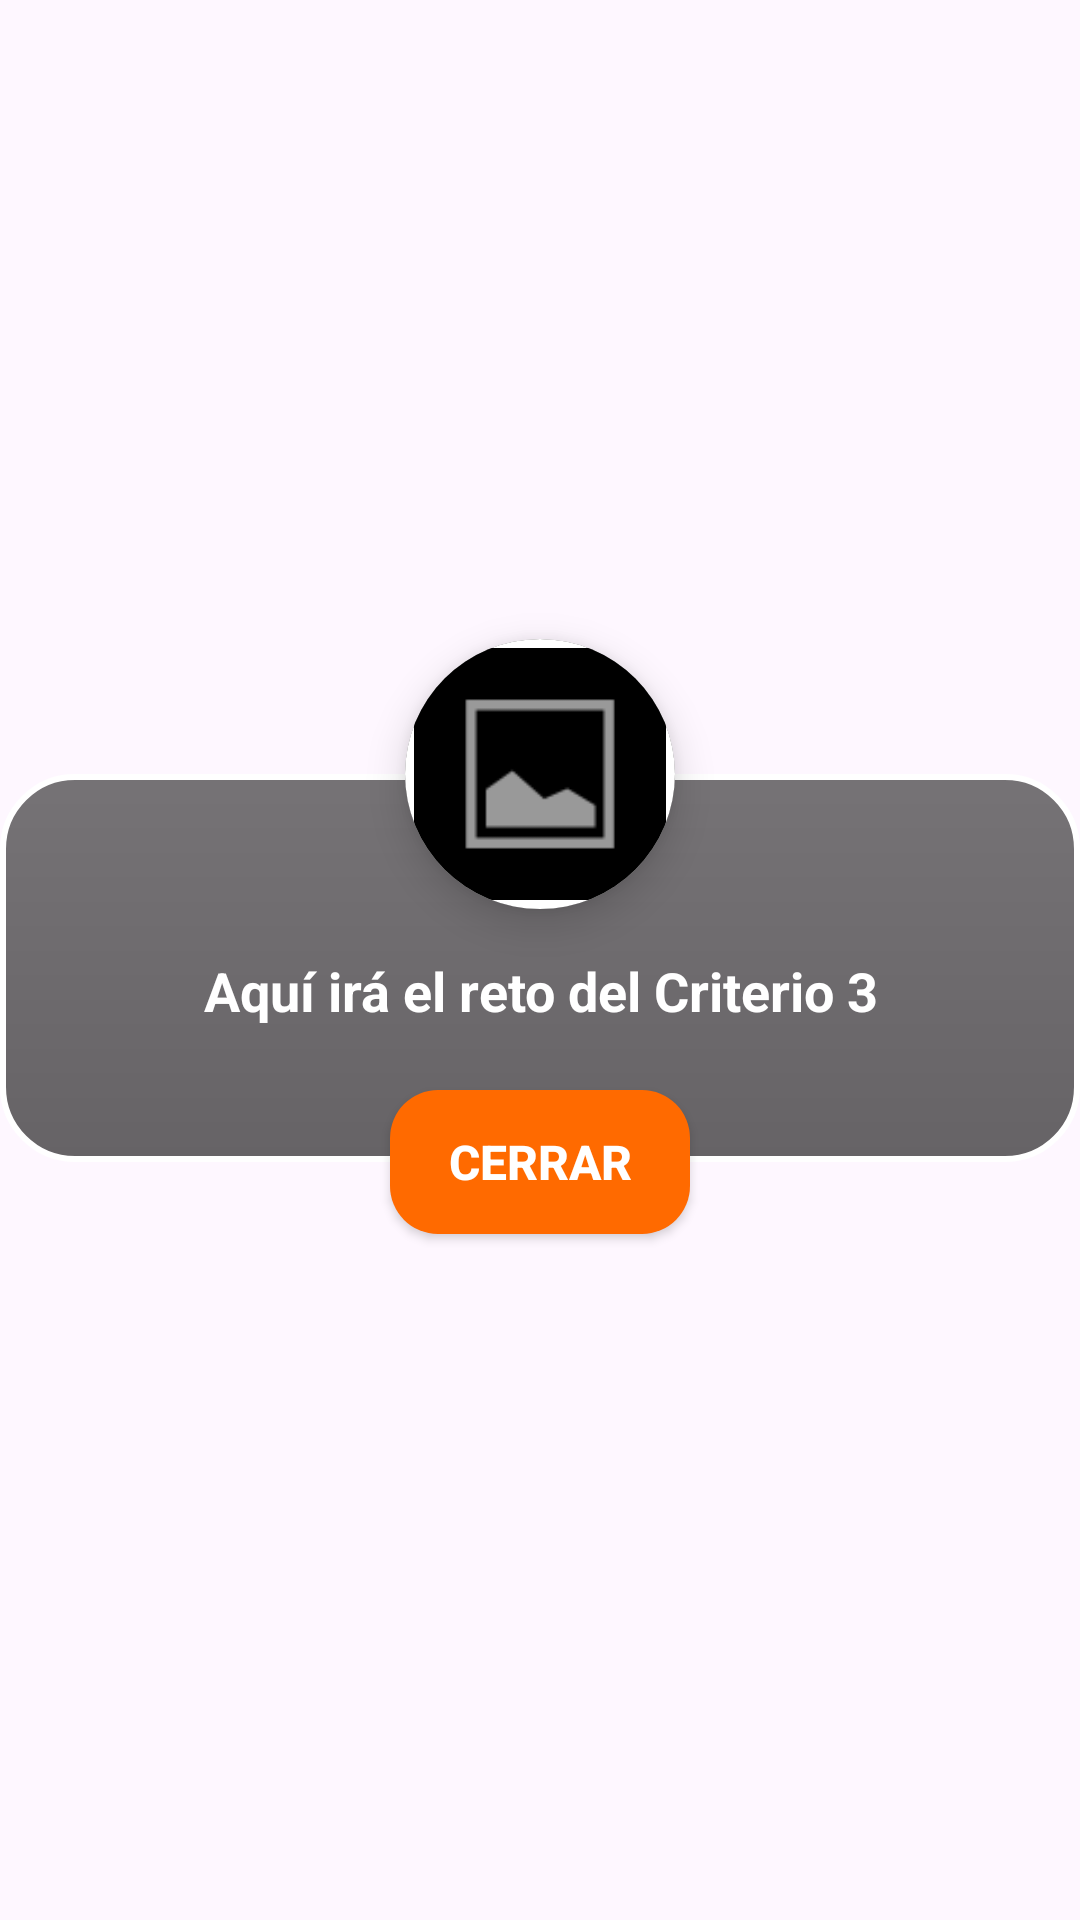

Where to tap for icons on this 1080px×1920px app screen, as [x,y]:
gallery: [540,774]
